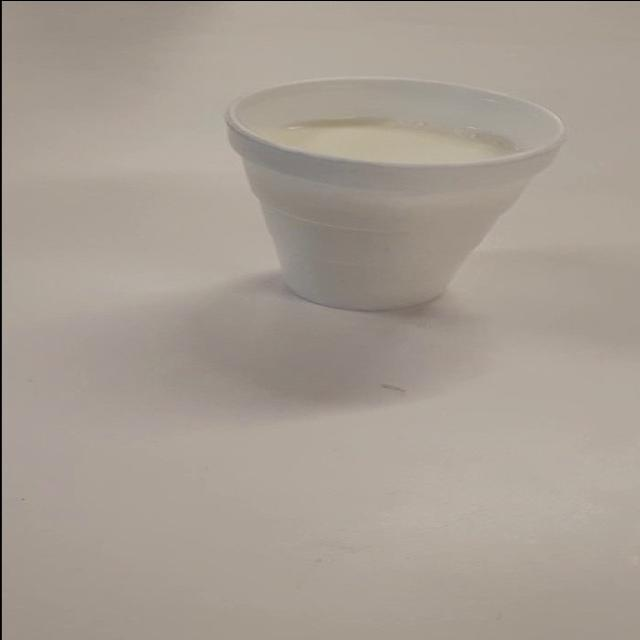milk: (177, 74, 589, 326)
